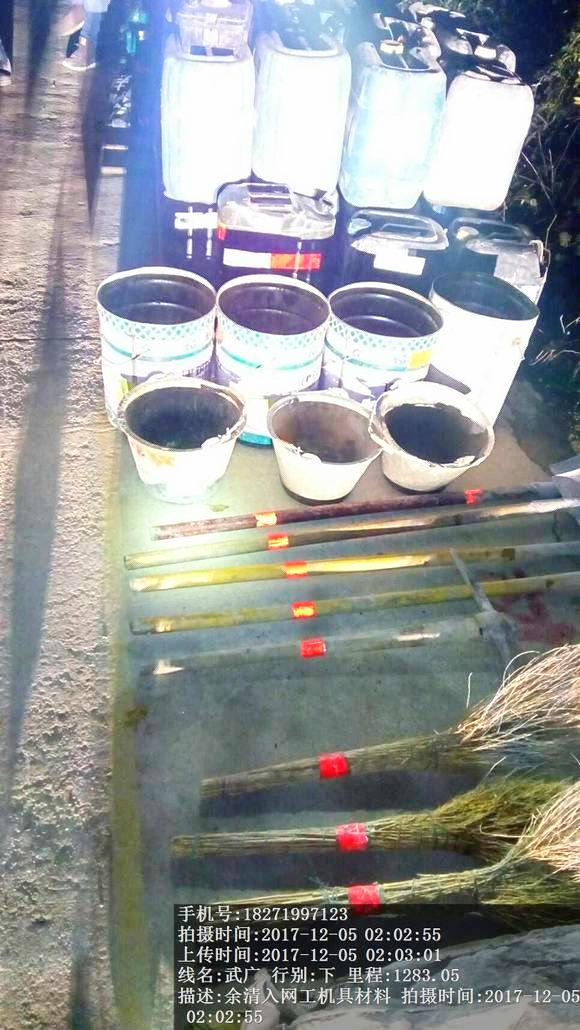SB: (193, 652, 575, 804), (177, 775, 534, 867)
SNT: (121, 380, 249, 504), (262, 386, 376, 501), (378, 377, 492, 490)
